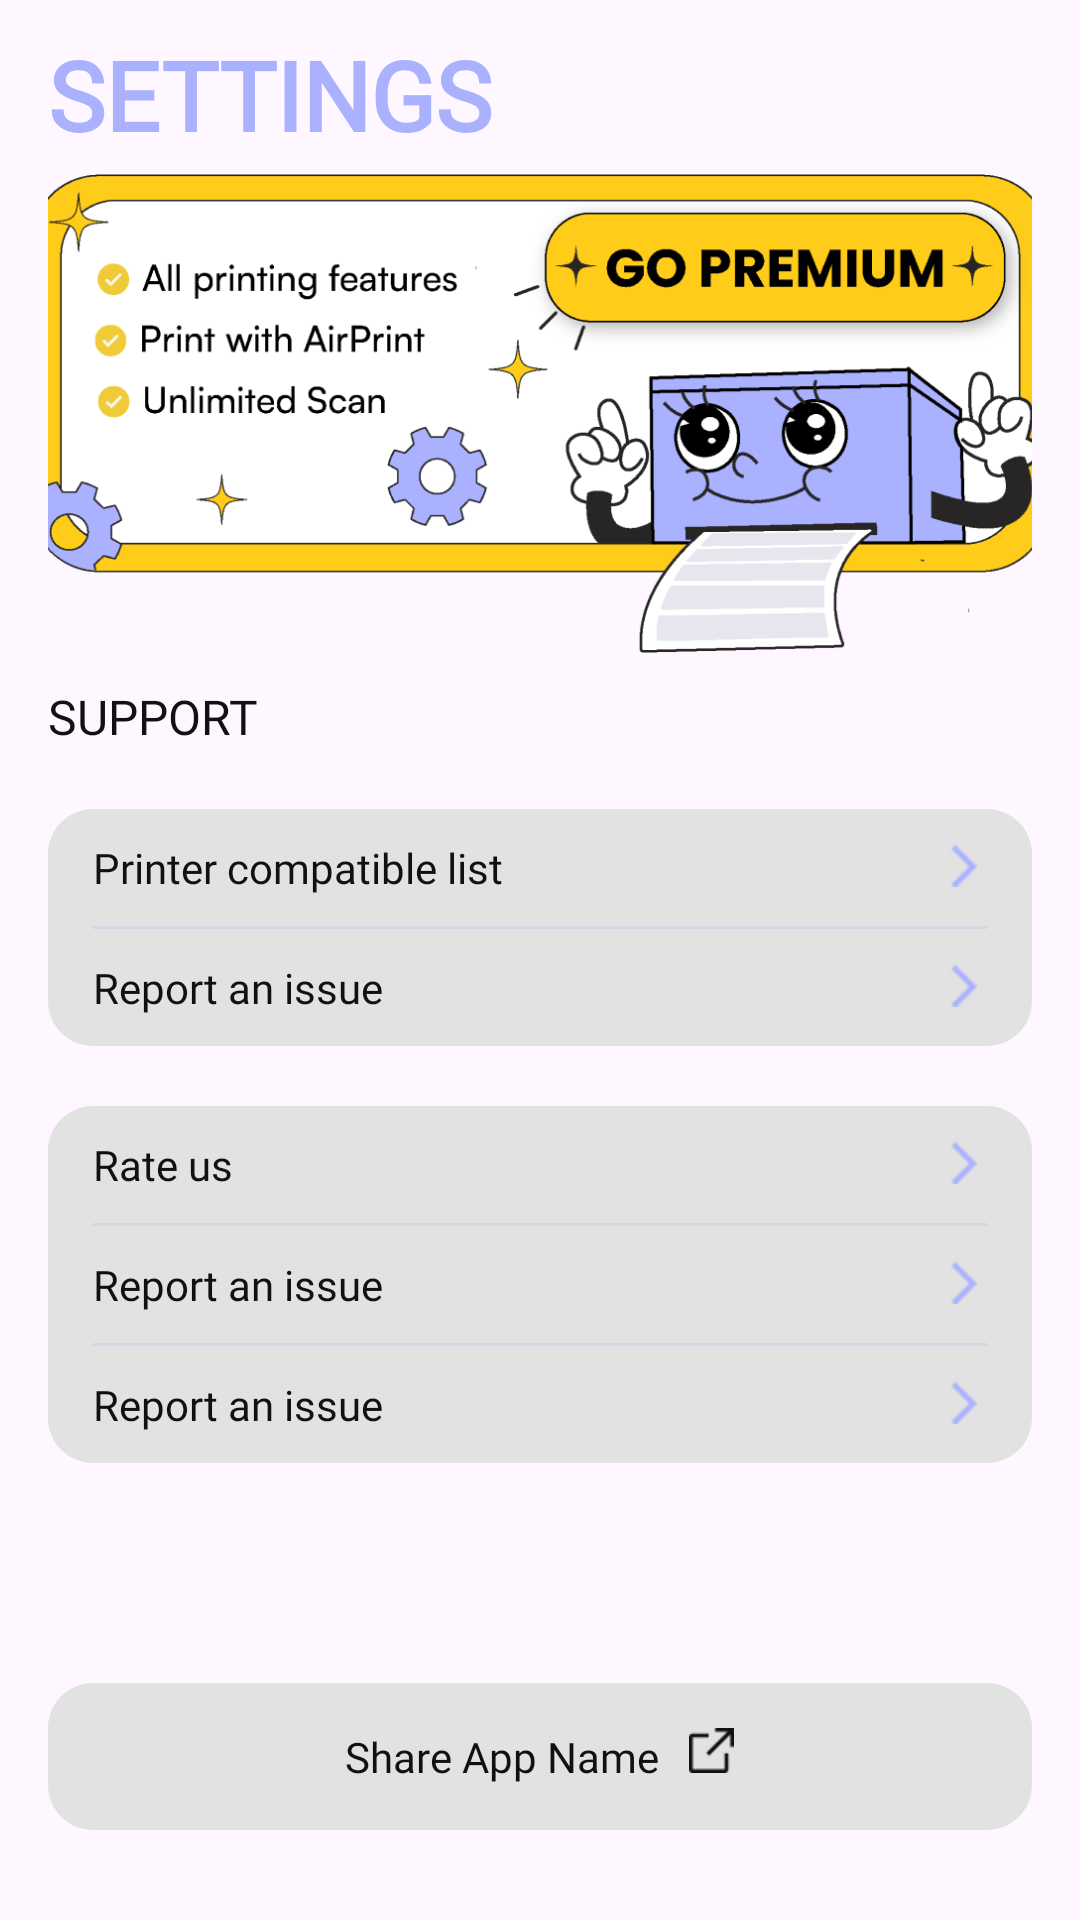

Named icons in this screenshot (1080*1920) and their centers, point (x, y):
item setting share: point (711, 1750)
setting more: point (964, 866), point (964, 986), point (964, 1163), point (964, 1283), point (964, 1403)
